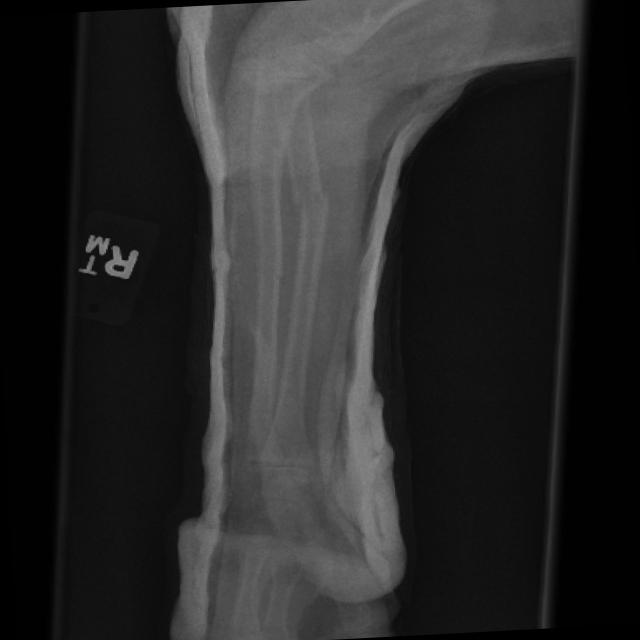forearm fracture: (271, 158, 358, 261)
